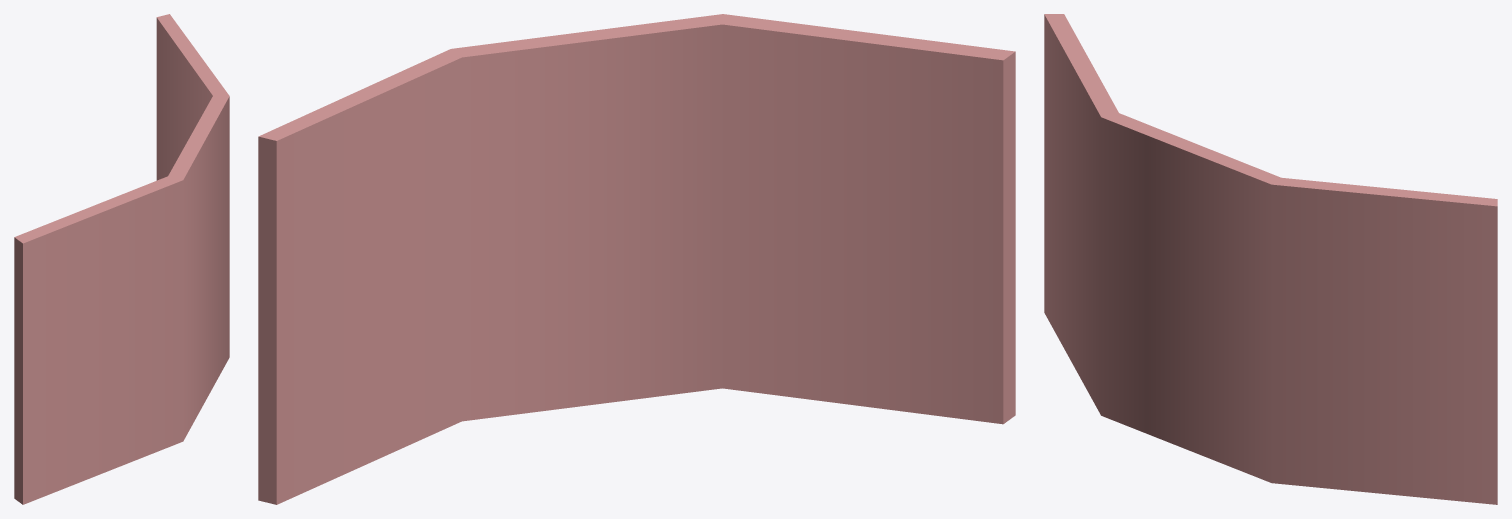
The model's file is Fence_B_D_COL.fbx.
3 renders of one model, left to right at view 1: azimuth 30°, elevation 25°; view 2: azimuth 150°, elevation 25°; view 3: azimuth 270°, elevation 25°, orthographic. The views are drawn at different scales.
Visible parts, largest first — view 1: Fence_B_D_COL; view 2: Fence_B_D_COL; view 3: Fence_B_D_COL.
Part boxes in pixels (bbox=[...]): Fence_B_D_COL: bbox=[14, 14, 229, 504]; Fence_B_D_COL: bbox=[258, 14, 1015, 504]; Fence_B_D_COL: bbox=[1044, 14, 1497, 504].
Bounding box in the file's own units: 300 × 217 × 299.
